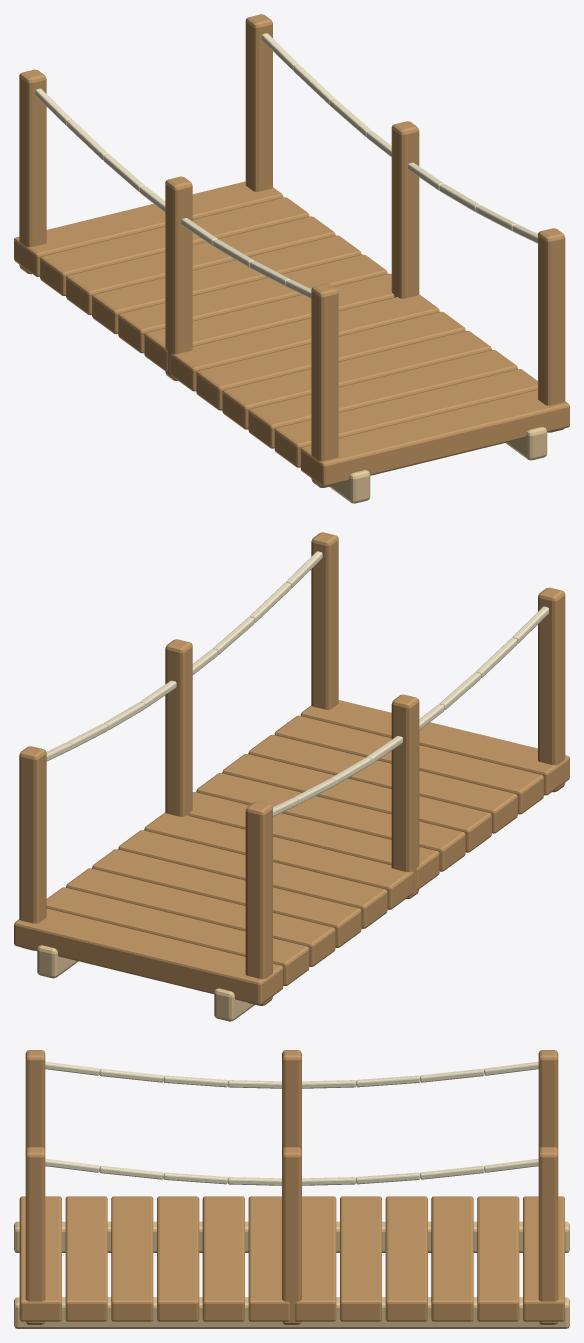
File: S018_plank_bridge.glb
3 renders of one model, top to bottom at view 1: azimuth 30°, elevation 25°; view 2: azimuth 150°, elevation 25°; view 3: azimuth 270°, elevation 25°, orthographic. The views are drawn at different scales.
Parts seen in each view (by area): view 1: bridge_plank, bridge_plank.004, bridge_plank.003, bridge_plank.002, bridge_plank.001, bridge_plank.005, bridge_plank.010, bridge_plank.008, bridge_plank.009, bridge_plank.007, bridge_plank.011, bridge_plank.006 (+8 smaller); view 2: bridge_plank.011, bridge_plank.009, bridge_plank.007, bridge_plank.008, bridge_plank.010, bridge_plank.006, bridge_plank.001, bridge_plank.003, bridge_plank.002, bridge_plank.004, bridge_plank, bridge_plank.005 (+8 smaller); view 3: bridge_runner.001, bridge_plank.008, bridge_plank.009, bridge_plank.010, bridge_plank.001, bridge_plank.002, bridge_plank.003, bridge_plank.004, bridge_plank.007, bridge_plank.006, bridge_plank.005, bridge_plank (+24 smaller).
Boxes of the visible parts, x1=… form: bridge_plank: x1=300, y1=390, x2=569, y2=486; bridge_plank.004: x1=196, y1=311, x2=465, y2=410; bridge_plank.003: x1=222, y1=331, x2=491, y2=429; bridge_plank.002: x1=248, y1=350, x2=517, y2=448; bridge_plank.001: x1=274, y1=369, x2=537, y2=467; bridge_plank.005: x1=170, y1=294, x2=439, y2=391; bridge_plank.010: x1=40, y1=197, x2=309, y2=295; bridge_plank.008: x1=92, y1=235, x2=361, y2=334; bridge_plank.009: x1=66, y1=216, x2=335, y2=315; bridge_plank.007: x1=118, y1=254, x2=387, y2=353; bridge_plank.011: x1=14, y1=181, x2=283, y2=276; bridge_plank.006: x1=144, y1=273, x2=394, y2=371; bridge_plank.011: x1=14, y1=908, x2=283, y2=1005; bridge_plank.009: x1=66, y1=868, x2=335, y2=966; bridge_plank.007: x1=118, y1=830, x2=387, y2=928; bridge_plank.008: x1=92, y1=849, x2=361, y2=947; bridge_plank.010: x1=46, y1=887, x2=309, y2=985; bridge_plank.006: x1=144, y1=812, x2=413, y2=909; bridge_plank.001: x1=274, y1=715, x2=543, y2=814; bridge_plank.003: x1=222, y1=754, x2=491, y2=852; bridge_plank.002: x1=248, y1=734, x2=517, y2=833; bridge_plank.004: x1=196, y1=773, x2=465, y2=871; bridge_plank: x1=300, y1=700, x2=569, y2=795; bridge_plank.005: x1=189, y1=792, x2=439, y2=890; bridge_runner.001: x1=14, y1=1297, x2=569, y2=1328; bridge_plank.008: x1=385, y1=1196, x2=427, y2=1321; bridge_plank.009: x1=431, y1=1196, x2=473, y2=1321; bridge_plank.010: x1=477, y1=1196, x2=519, y2=1321; bridge_plank.001: x1=65, y1=1196, x2=107, y2=1321; bridge_plank.002: x1=111, y1=1196, x2=153, y2=1321; bridge_plank.003: x1=157, y1=1196, x2=199, y2=1321; bridge_plank.004: x1=202, y1=1196, x2=244, y2=1321; bridge_plank.007: x1=340, y1=1196, x2=381, y2=1321; bridge_plank.006: x1=295, y1=1196, x2=336, y2=1321; bridge_plank.005: x1=248, y1=1196, x2=289, y2=1321; bridge_plank: x1=19, y1=1196, x2=61, y2=1321.
Size of the model in its own units: 1.4 by 1.15 by 3.1.
